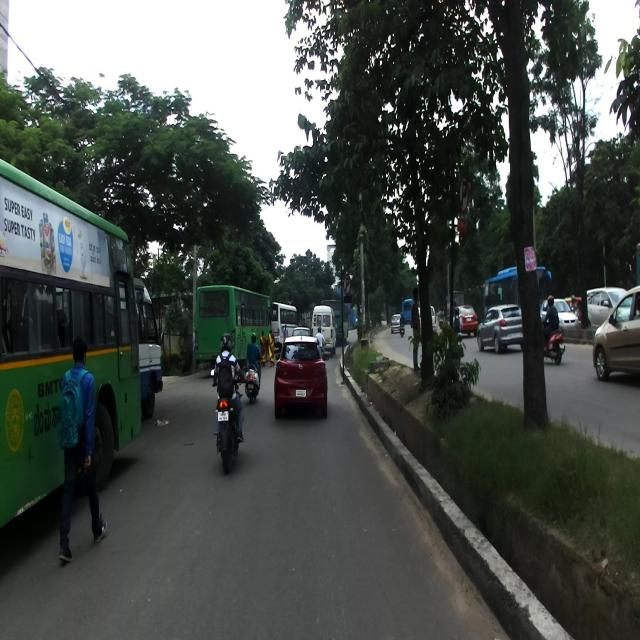Car_Hyundai: (274, 332, 329, 418)
bus: (0, 151, 144, 532)
motorcycle_bajaj: (209, 368, 248, 476)
